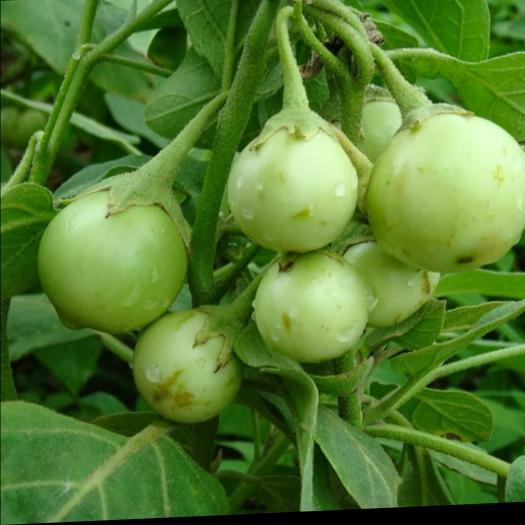eggplant: (0, 97, 301, 436), (343, 37, 524, 299), (214, 16, 356, 262), (234, 243, 434, 378)
